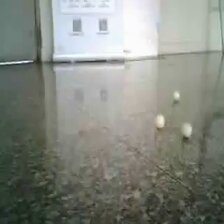w: (180, 122, 193, 138), (154, 114, 165, 127), (172, 91, 181, 101)
